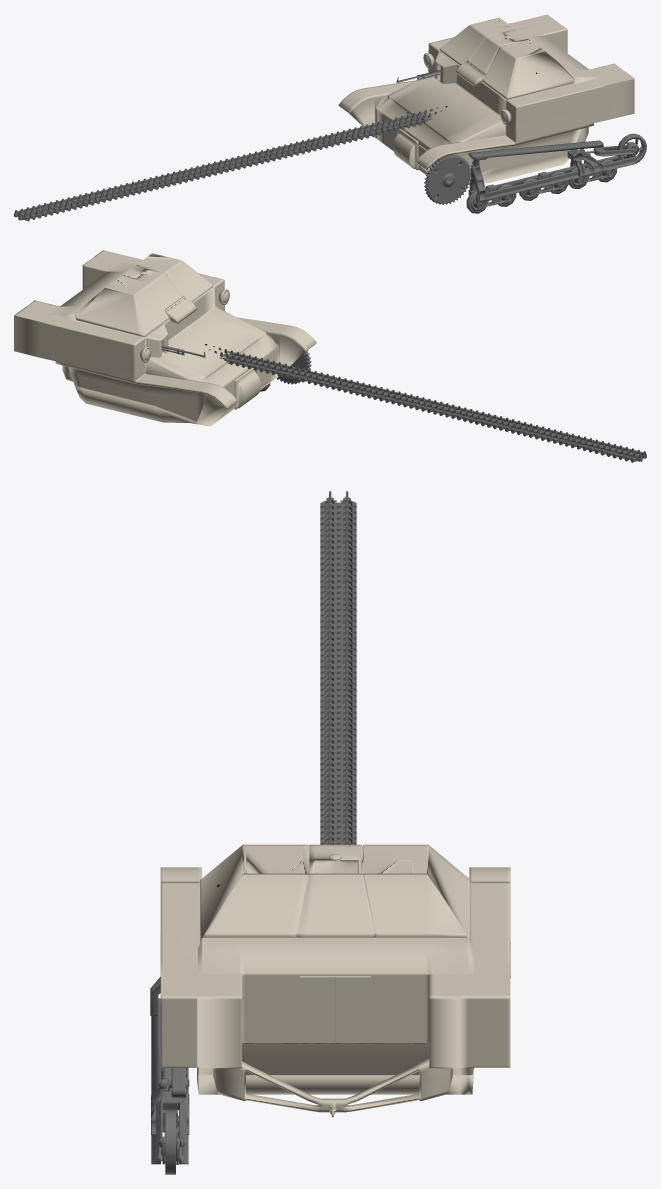
The model's file is tank.dae.
3 renders of one model, top to bottom at view 1: azimuth 30°, elevation 25°; view 2: azimuth 150°, elevation 25°; view 3: azimuth 270°, elevation 25°, orthographic. The views are drawn at different scales.
Parts seen in each view (by area): view 1: body, Plane, tack_mounts, track_wheels, Gear, back_track_wheel; view 2: body, Plane, Gear; view 3: body, Plane, hitch, tack_mounts.
Boxes of the visible parts, x1=… form: body: x1=338, y1=14, x2=634, y2=183; Plane: x1=14, y1=107, x2=442, y2=221; tack_mounts: x1=468, y1=140, x2=636, y2=202; track_wheels: x1=466, y1=159, x2=616, y2=213; Gear: x1=424, y1=154, x2=471, y2=204; back_track_wheel: x1=617, y1=133, x2=646, y2=162; body: x1=14, y1=250, x2=316, y2=426; Plane: x1=208, y1=346, x2=646, y2=462; Gear: x1=277, y1=350, x2=311, y2=384; body: x1=160, y1=844, x2=510, y2=1094; Plane: x1=320, y1=491, x2=356, y2=844; hitch: x1=213, y1=1058, x2=452, y2=1117; tack_mounts: x1=150, y1=977, x2=189, y2=1164.
Bounding box in the file's own units: 15.04 × 4 × 3.16.
